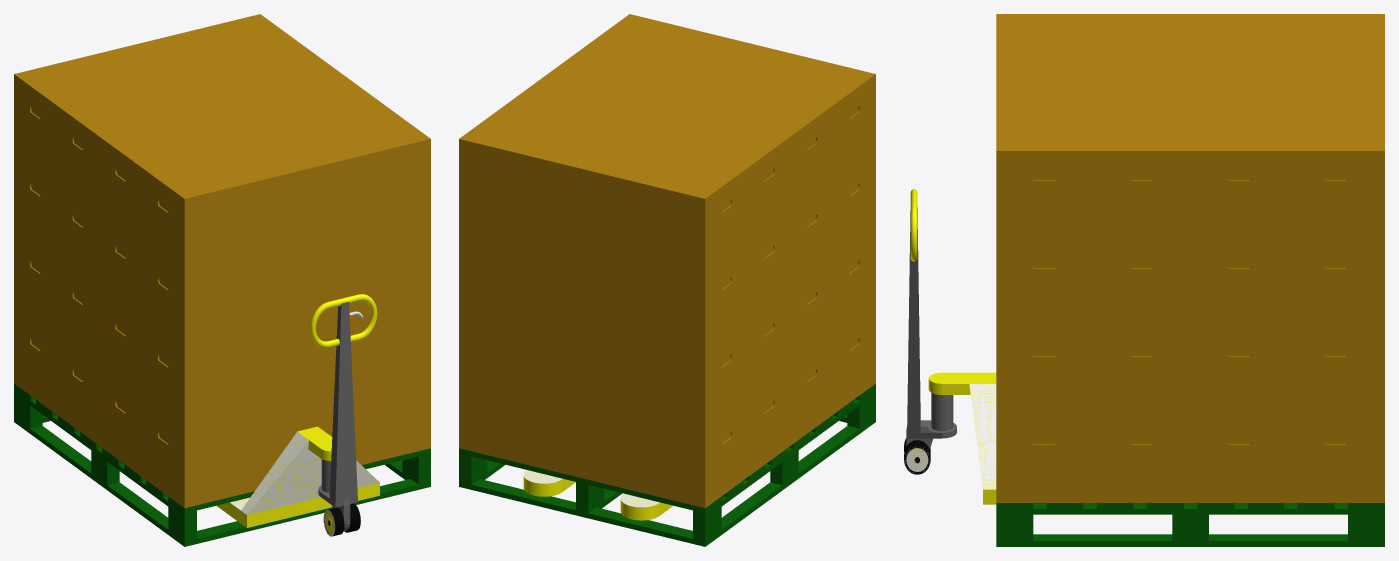
The model's file is FullJockey.dae.
3 renders of one model, left to right at view 1: azimuth 30°, elevation 25°; view 2: azimuth 150°, elevation 25°; view 3: azimuth 270°, elevation 25°, orthographic. The views are drawn at different scales.
Visible parts, largest first — view 1: 组件_4 (×23), 组件_14 (×3), group_5, group_22, group_6, group_1, group_15, group_20, group_14, group_4; view 2: 组件_4 (×23), group_17, group_5, 组件_14, group_8, group_6, group_4, group_12, group_19, group_14, group_15; view 3: 组件_4 (×20), 组件_14 (×3), group_16, group_23, group_20, group_19, group_21.
Boxes of the visible parts, x1,y1,x2,y2 form: 组件_4 (×23): (14,14,430,508); 组件_14 (×3): (216,294,379,527); group_5: (22,423,176,540); group_22: (176,479,430,546); group_6: (14,389,196,518); group_1: (168,448,430,513); group_15: (168,507,196,541); group_20: (402,457,430,484); group_14: (91,450,119,485); group_4: (14,394,42,428); 组件_4 (×23): (459,14,875,508); group_17: (459,479,713,546); group_5: (713,423,867,540); 组件_14: (523,470,673,520); group_8: (459,448,721,513); group_6: (693,389,875,518); group_4: (693,507,721,541); group_12: (576,486,604,513); group_19: (459,457,487,484); group_14: (770,450,798,485); group_15: (847,394,875,428); 组件_4 (×20): (996,14,1384,502); 组件_14 (×3): (907,207,996,504); group_16: (1014,534,1366,546); group_23: (996,503,1384,514); group_20: (996,514,1033,540); group_19: (1348,514,1384,540); group_21: (1172,514,1208,540).
Size of the model in its own units: 39.37 by 58.46 by 53.15.
